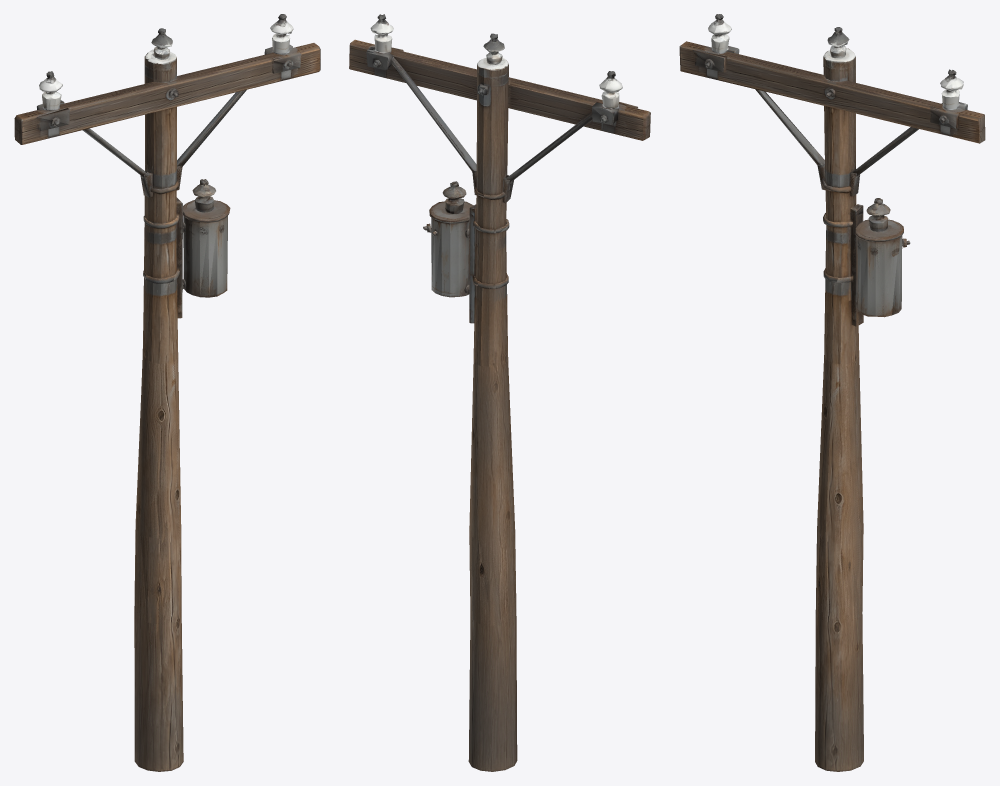
The model's file is utility-pole.glb.
The picture shows the model from 3 angles, left to right: view 1: azimuth 30°, elevation 25°; view 2: azimuth 150°, elevation 25°; view 3: azimuth 330°, elevation 25°; orthographic projection.
Bounding box in the file's own units: 0.4297 × 1 × 0.0723.
Materials: 1 (1 with a texture image).
